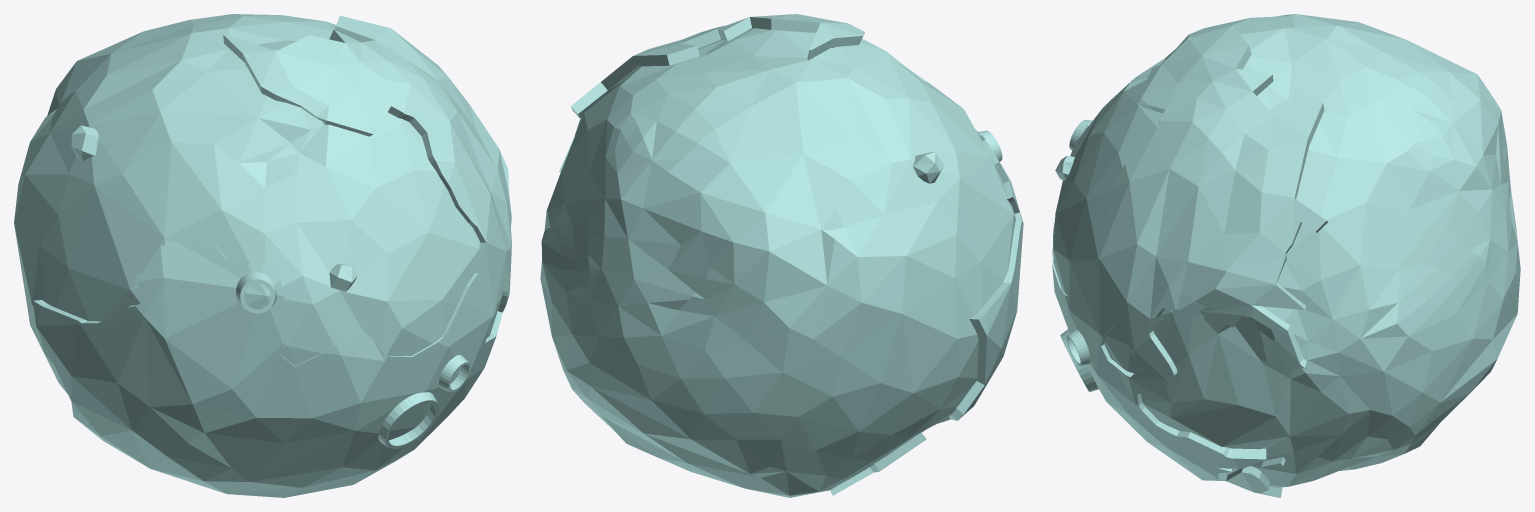
File: basic.fbx
3 views of the same model, side by side, from view 1: azimuth 30°, elevation 25°; view 2: azimuth 150°, elevation 25°; view 3: azimuth 270°, elevation 25° (orthographic). The views are drawn at different scales.
Parts seen in each view (by area): view 1: Planet_25.001; view 2: Planet_25.001; view 3: Planet_25.001.
Part boxes in pixels (x1,y1,x2,y2): Planet_25.001: [14, 14, 511, 497]; Planet_25.001: [540, 14, 1023, 497]; Planet_25.001: [1052, 14, 1520, 497].
Bounding box in the file's own units: 112 × 109 × 106.
